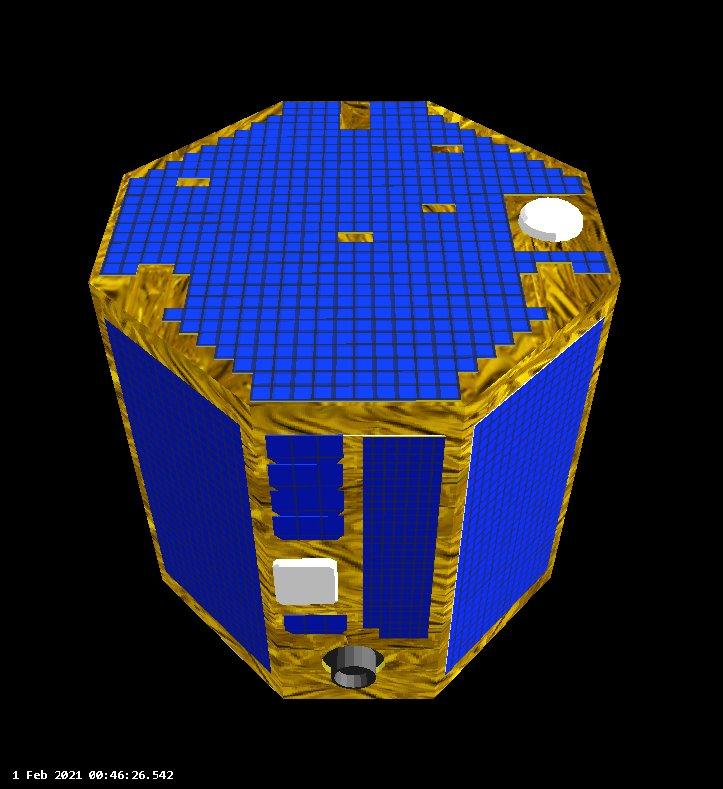antenna: (519, 197, 584, 245)
body: (89, 97, 623, 702)
solar: (98, 99, 614, 403), (102, 314, 276, 675), (442, 317, 607, 677), (360, 434, 445, 640), (263, 433, 347, 541), (284, 612, 348, 637)
thruster: (328, 644, 380, 691)
